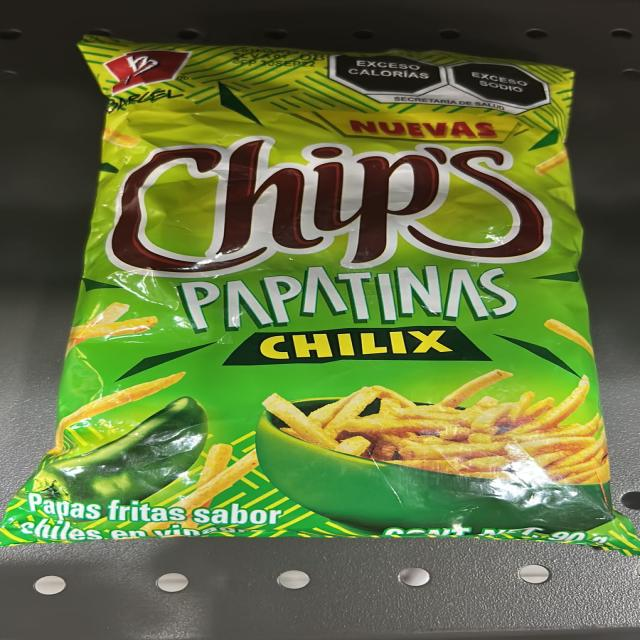chipsPapatinas: (90, 53, 586, 552)
